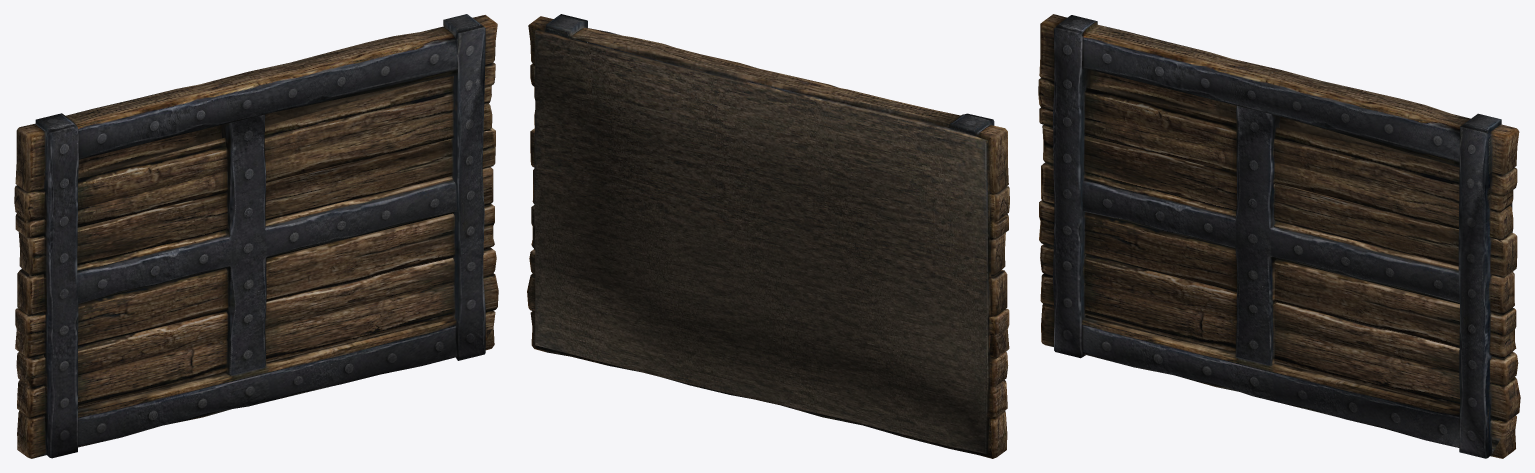
The model's file is porta_dungeon.glb.
3 renders of one model, left to right at view 1: azimuth 30°, elevation 25°; view 2: azimuth 150°, elevation 25°; view 3: azimuth 330°, elevation 25°, orthographic.
Parts seen in each view (by area): view 1: porta_dungeon; view 2: porta_dungeon; view 3: porta_dungeon.
Part boxes in pixels (<box>): porta_dungeon: <box>14,14,498,458</box>; porta_dungeon: <box>527,14,1009,458</box>; porta_dungeon: <box>1038,14,1520,458</box>.
Bounding box in the file's own units: 0.9995 × 0.6636 × 0.0649.
Materials: 1 (1 with a texture image).
